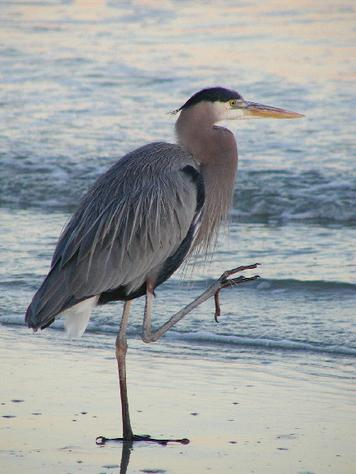heron: (26, 83, 309, 455)
